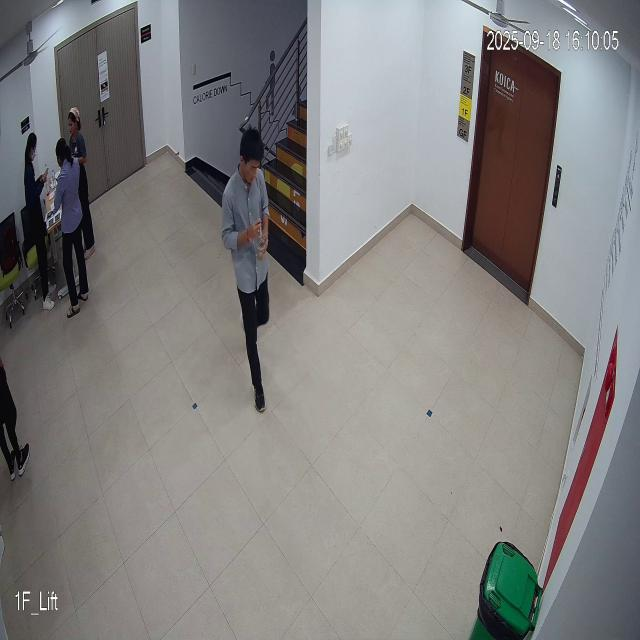face: (237, 123, 266, 187)
